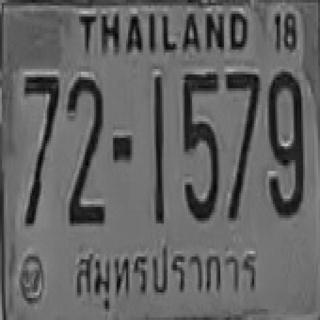N01: (152, 73, 162, 219), (152, 73, 162, 200)
N02: (66, 73, 104, 219), (66, 73, 104, 206)
N05: (181, 70, 218, 219), (182, 70, 217, 156)
N07: (224, 69, 260, 218), (23, 74, 58, 224), (23, 74, 58, 204), (224, 69, 260, 166), (23, 75, 58, 174)
N09: (267, 69, 303, 215)
P57: (73, 241, 261, 310)
